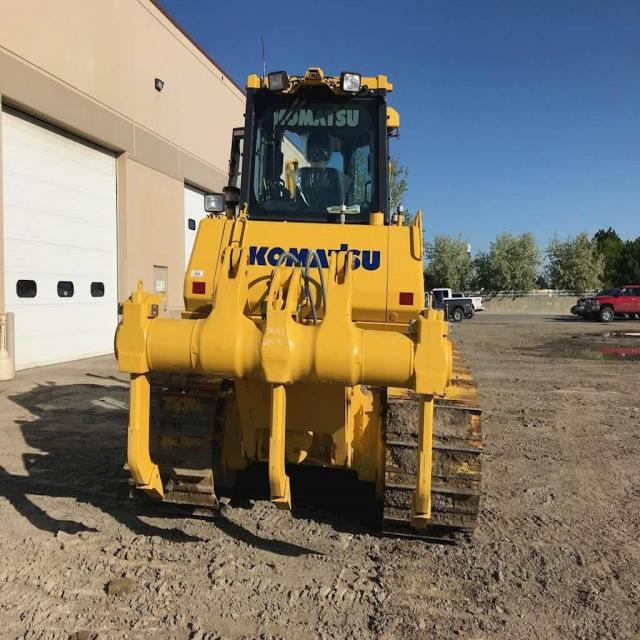Bulldozer: (86, 36, 496, 551)
